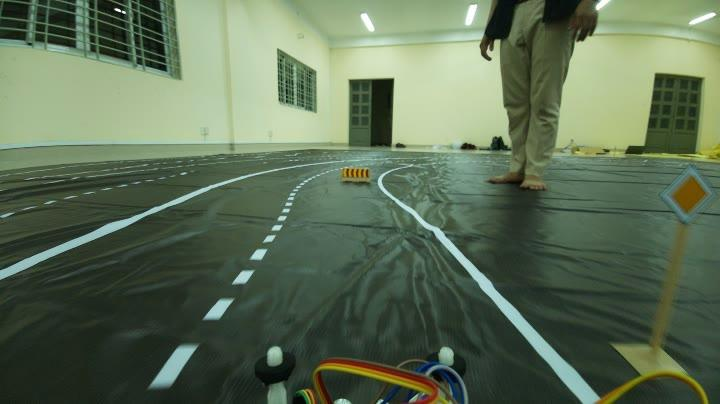priority: (655, 166, 713, 221)
roadblock: (334, 160, 372, 188)
